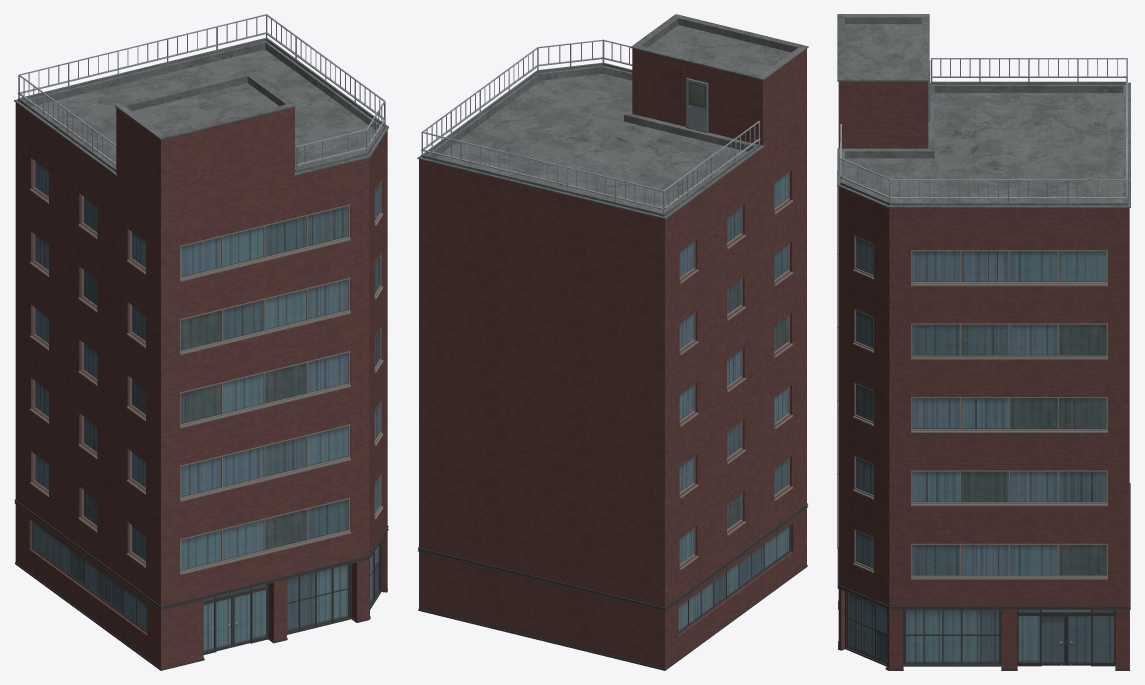
File: jctBld12_B.fbx
The picture shows the model from 3 angles, left to right: view 1: azimuth 30°, elevation 25°; view 2: azimuth 150°, elevation 25°; view 3: azimuth 270°, elevation 25°; orthographic projection. The views are drawn at different scales.
Visible parts, largest first — view 1: jctBld12_B_LOD0; view 2: jctBld12_B_LOD0; view 3: jctBld12_B_LOD0.
Boxes of the visible parts, x1,y1,x2,y2 form: jctBld12_B_LOD0: (14, 14, 388, 670); jctBld12_B_LOD0: (417, 14, 808, 670); jctBld12_B_LOD0: (837, 14, 1130, 670).
Bounding box in the file's own units: 1161 × 2325 × 1161.
